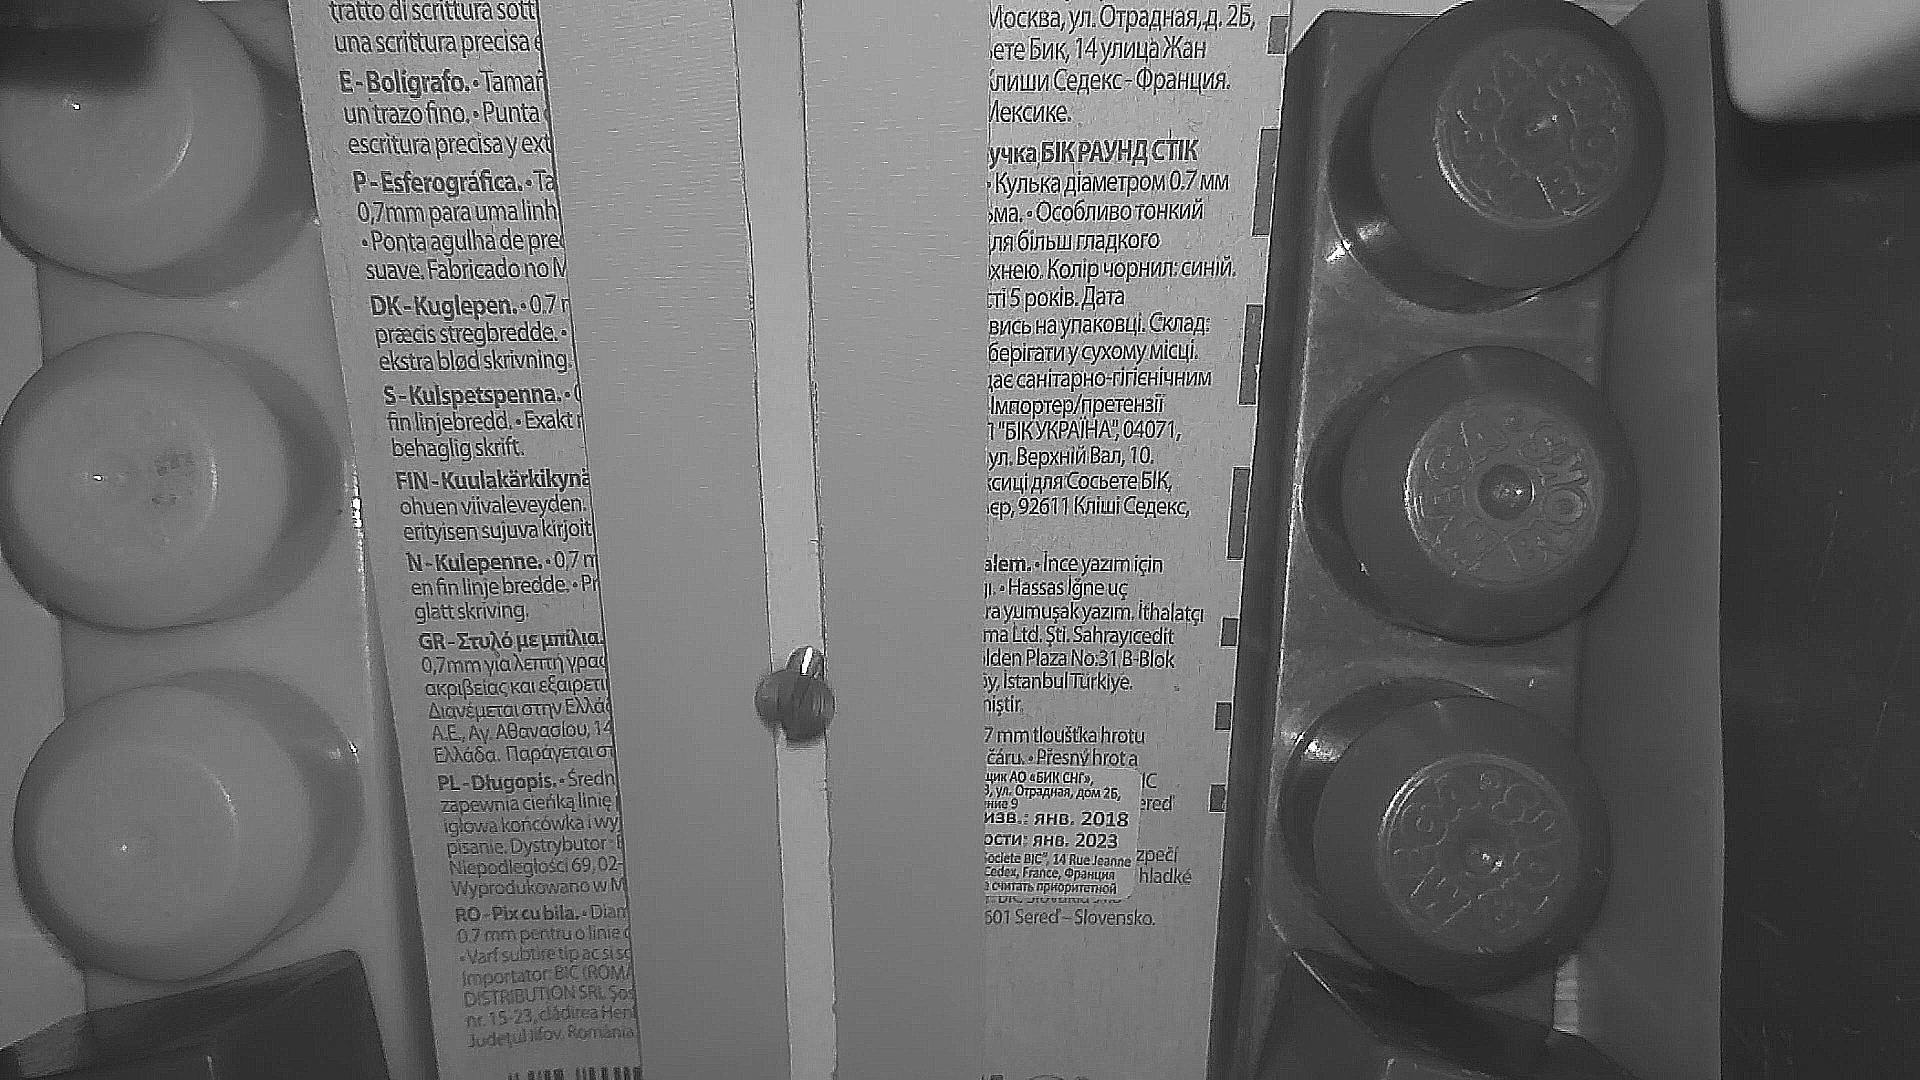i: (757, 670, 835, 745)
